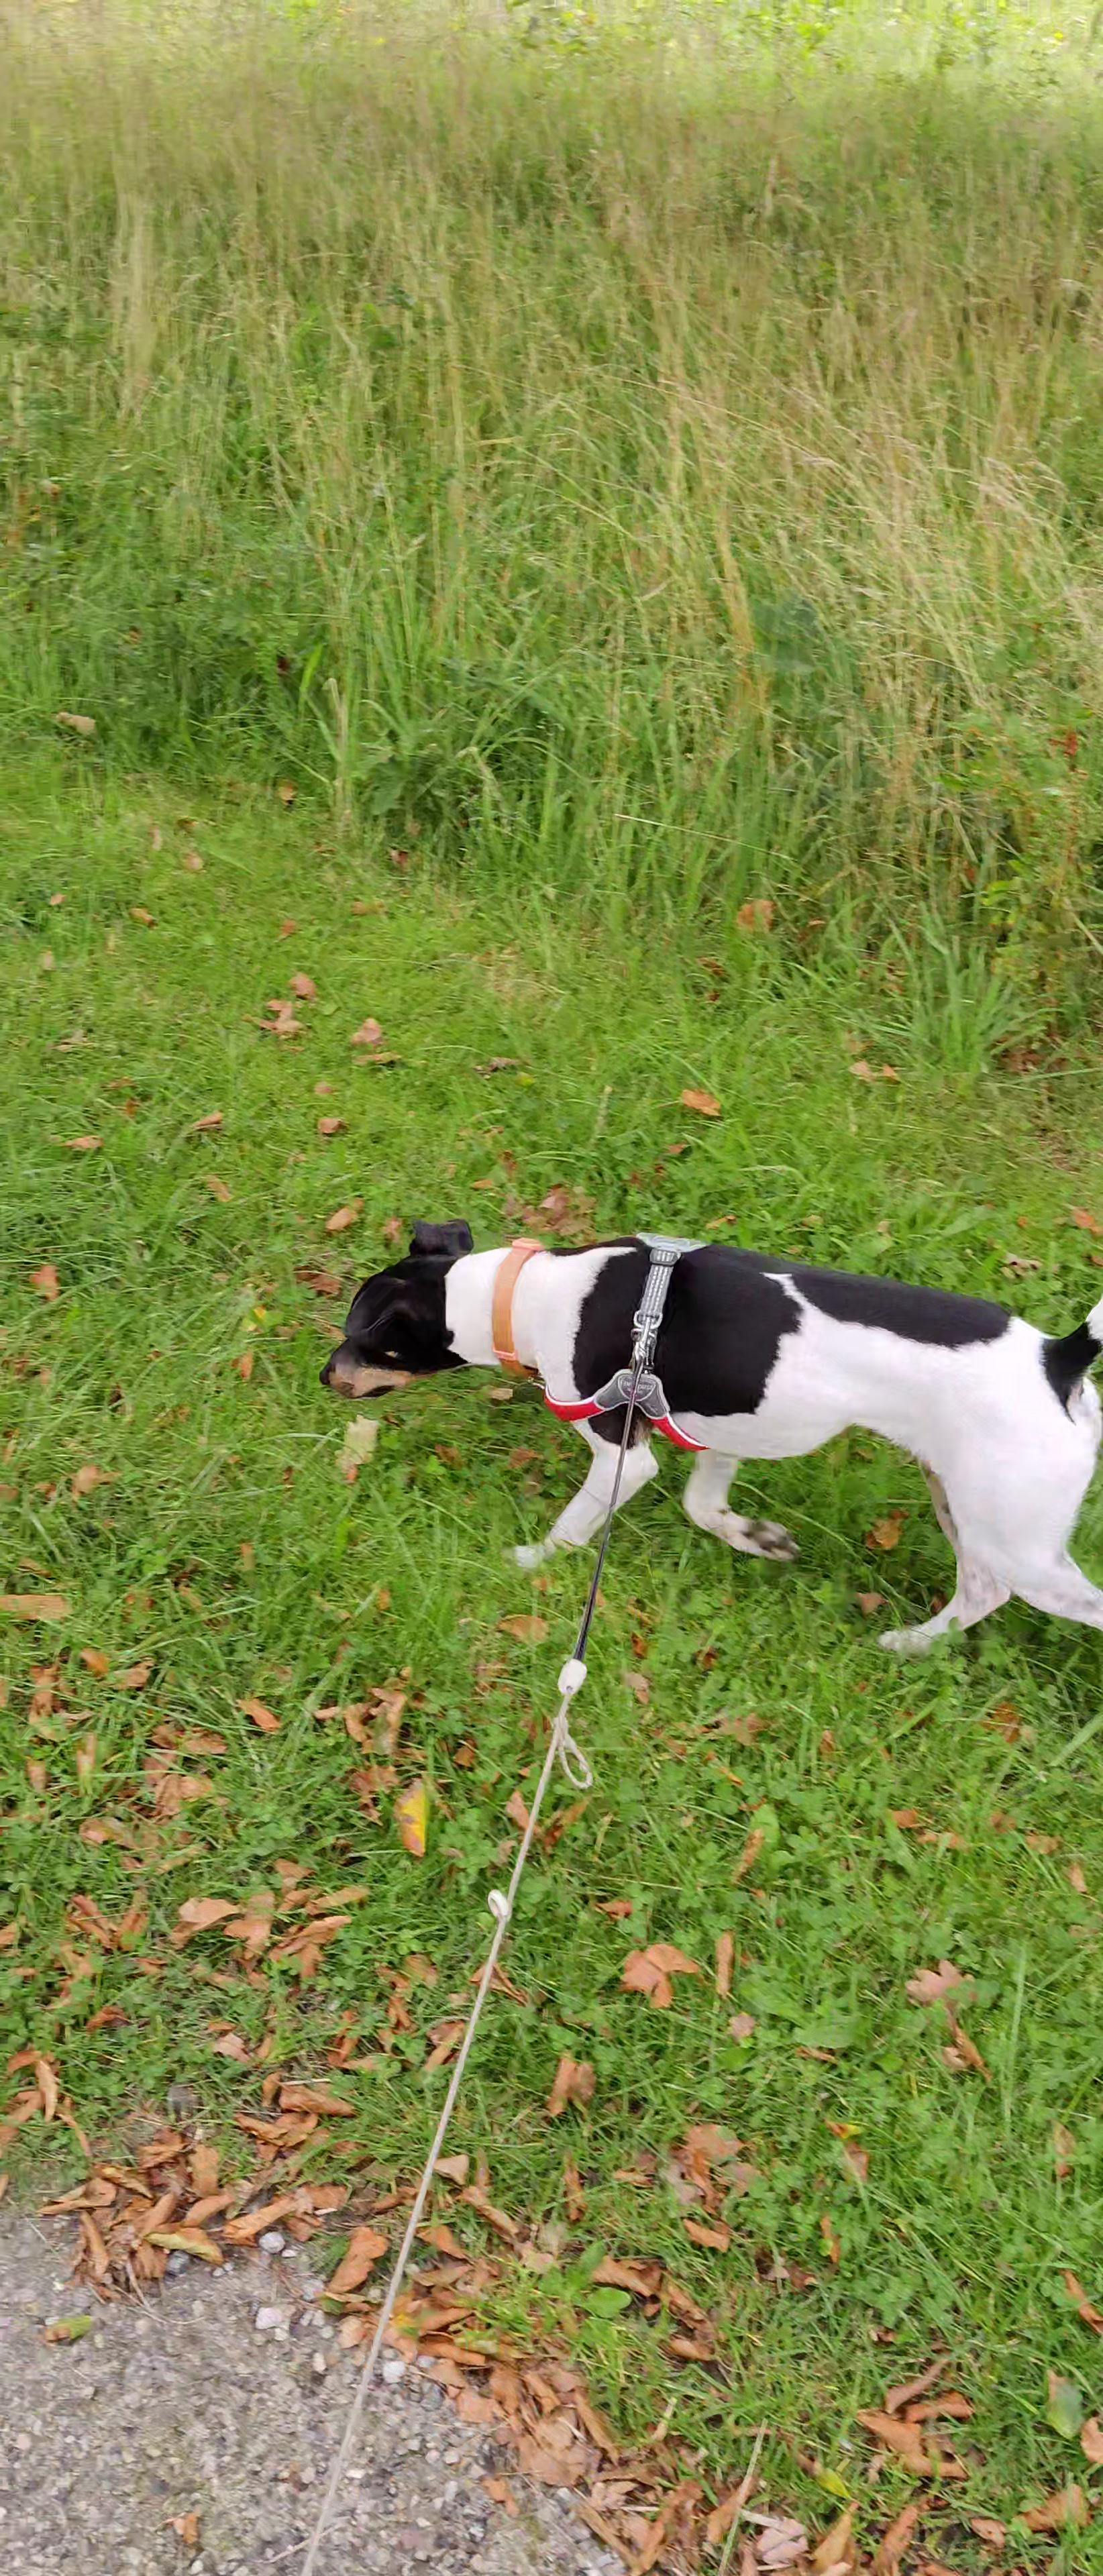Dog: (317, 1216, 1103, 1654)
